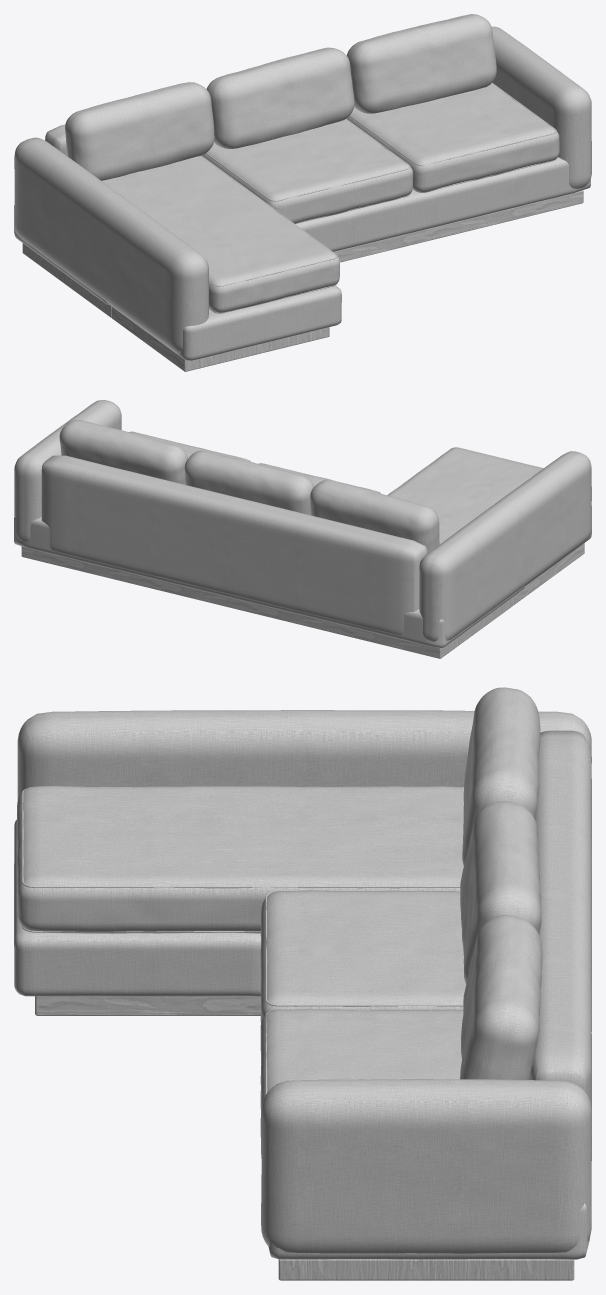
Rendered from sofa-l-2.7m.gltf.
3 views of the same model, one above another, from view 1: azimuth 30°, elevation 25°; view 2: azimuth 150°, elevation 25°; view 3: azimuth 270°, elevation 25° (orthographic). The views are drawn at different scales.
Visible parts, largest first — view 1: sofa-l; view 2: sofa-l; view 3: sofa-l.
Part boxes in pixels (box(x1,y1,x2,y2)): sofa-l: box(14, 14, 591, 371); sofa-l: box(14, 400, 591, 658); sofa-l: box(14, 687, 591, 1280).
Size of the model in its own units: 2.7 by 0.7831 by 1.66.
2 materials, 2 textured.
